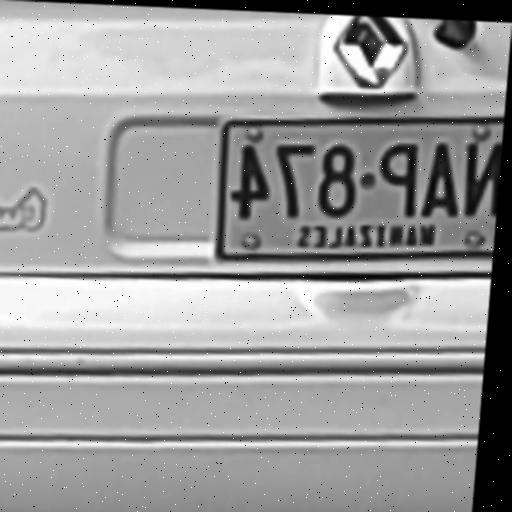placa: (212, 115, 504, 270)
